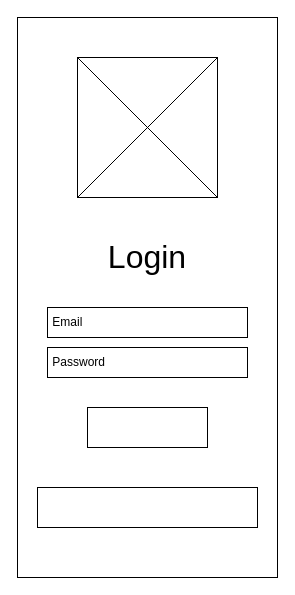
Image size: 295x595. Some labels were removed from this diagram. The centre of each missing label's shape, as x and y in pixels:
"Ainda não é membro? Registe-se aqui" belongs at (147,507).
"Entrar" belongs at (147,427).
